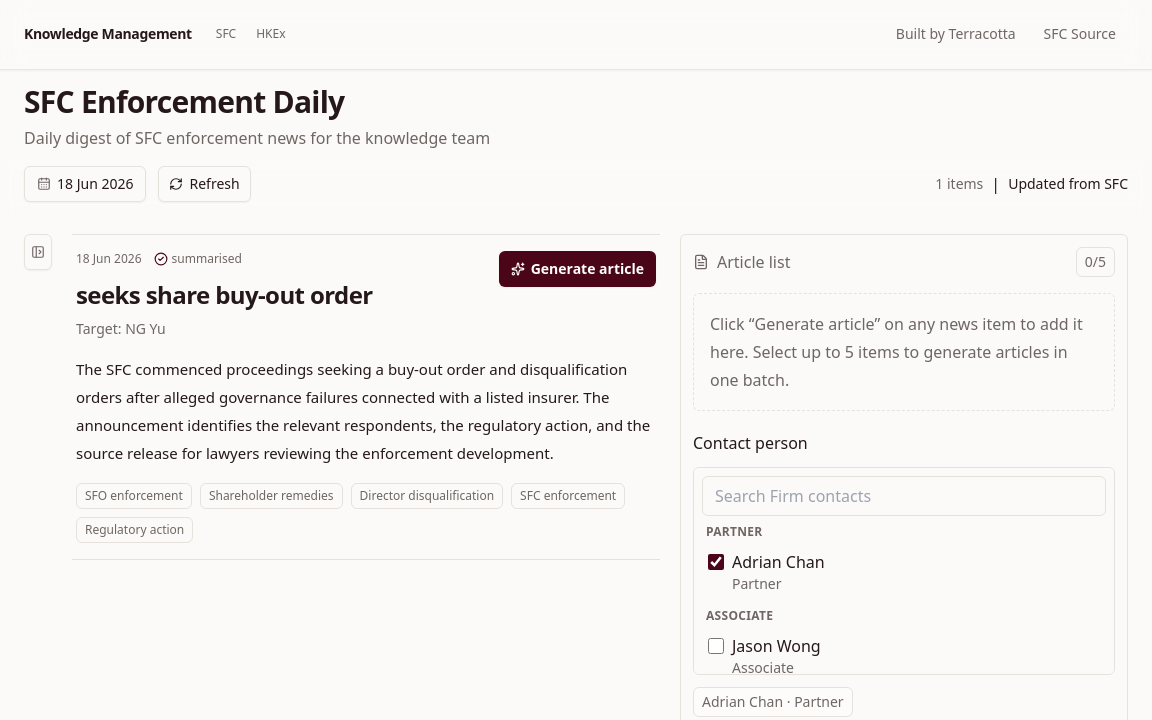
Test: AlertsWorkspace › renders the digest list and generator controls
Check: the heading "SFC Enforcement Daily" is shown, box [24, 81, 344, 122]
Check: the text "seeks share buy-out order" is shown, box [76, 279, 372, 311]
Click the button named "Show news navigation" at (38,252), box [24, 234, 52, 270]
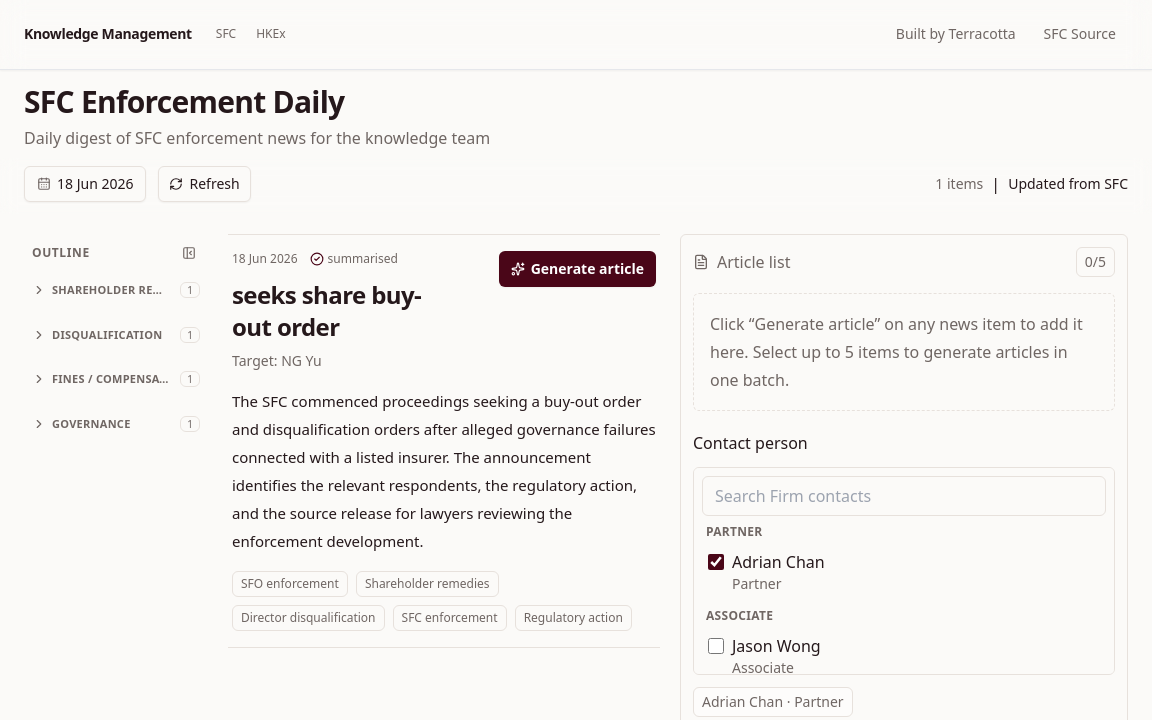
Click the button "Shareholder Remedies 1" at (116,290), box [24, 276, 208, 304]
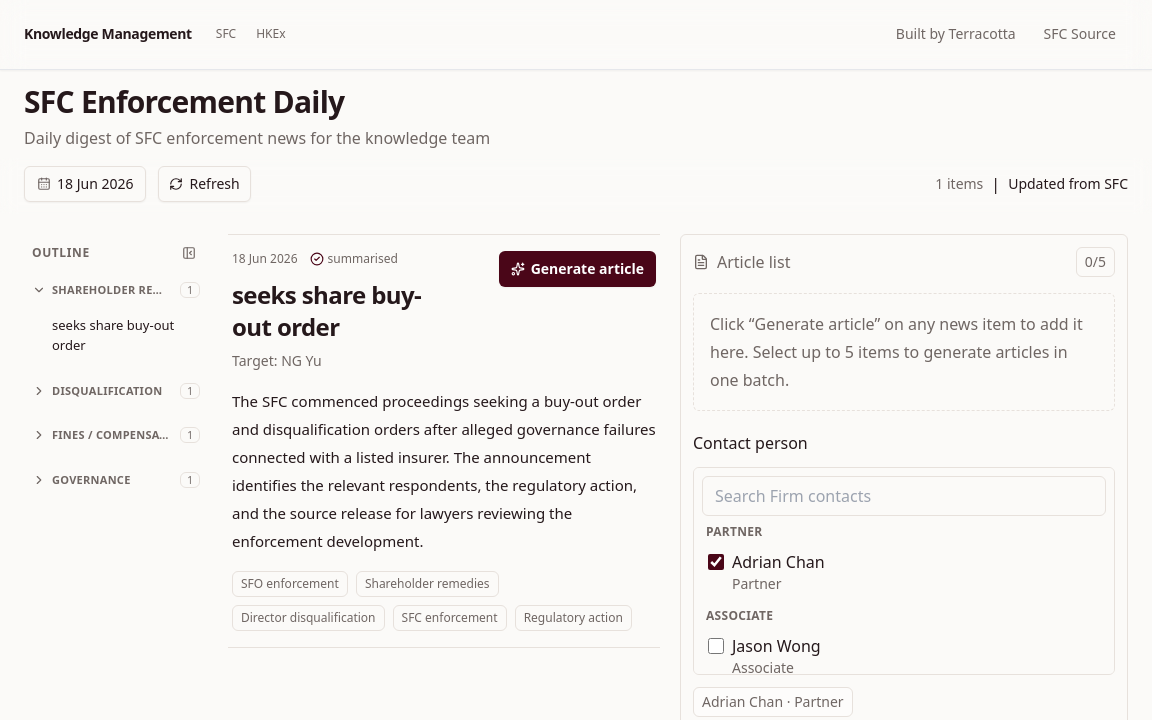
Check: the element named "Contact person" is shown, box [693, 467, 1115, 675]
Check: the link to "#news-26PR90" reads "seeks share buy-out order", box [52, 316, 174, 354]
Click the button "Generate article" at (577,269), box [499, 251, 656, 287]
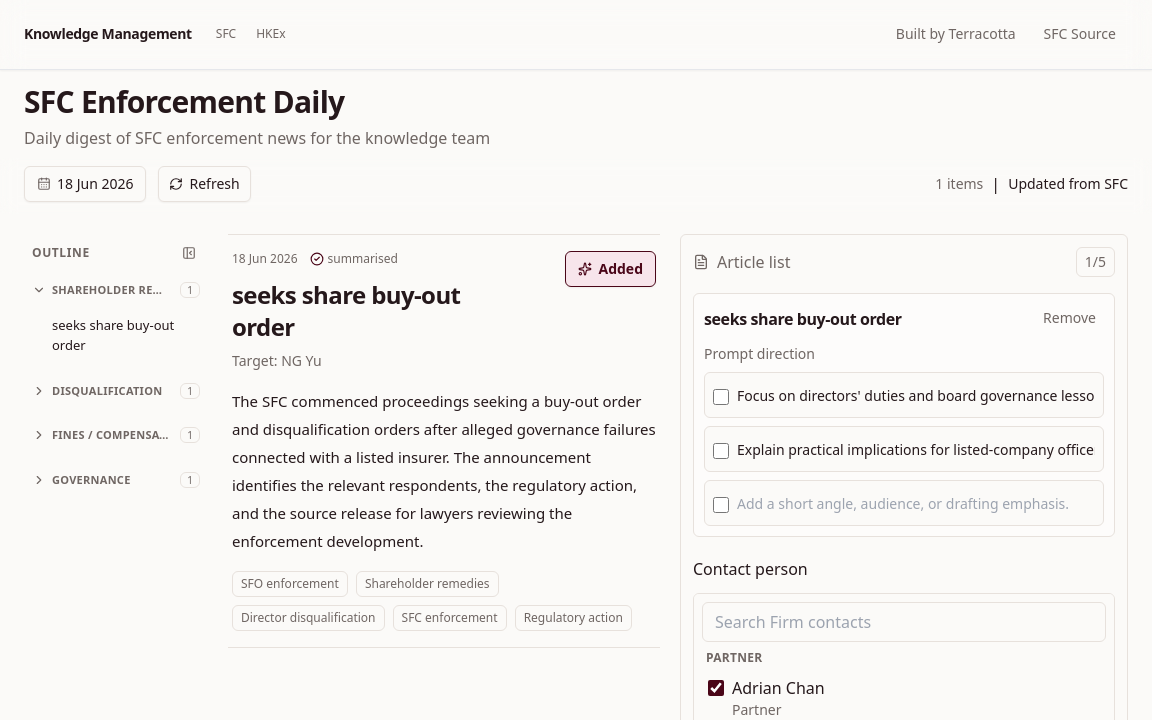
Check: the button "Added" is shown, box [566, 251, 656, 287]
Check: the text "1/5" is shown, box [1076, 247, 1115, 277]
Check: the field named "Prompt direction 1" is shown, box [737, 381, 1095, 409]
Type "Explain implications for licensed intermediaries." into the field named "Custom prompt direction" at (916,503), box [737, 489, 1095, 517]
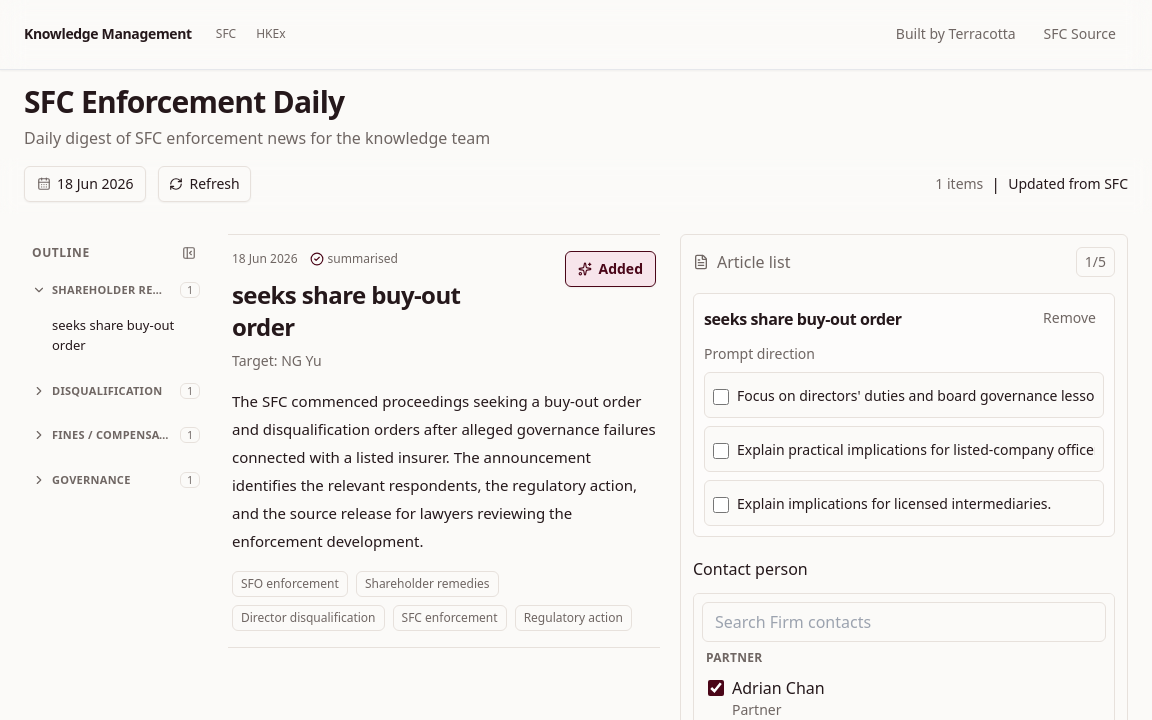
Click the button named "Collapse news navigation" at (189,253), box [178, 242, 200, 264]
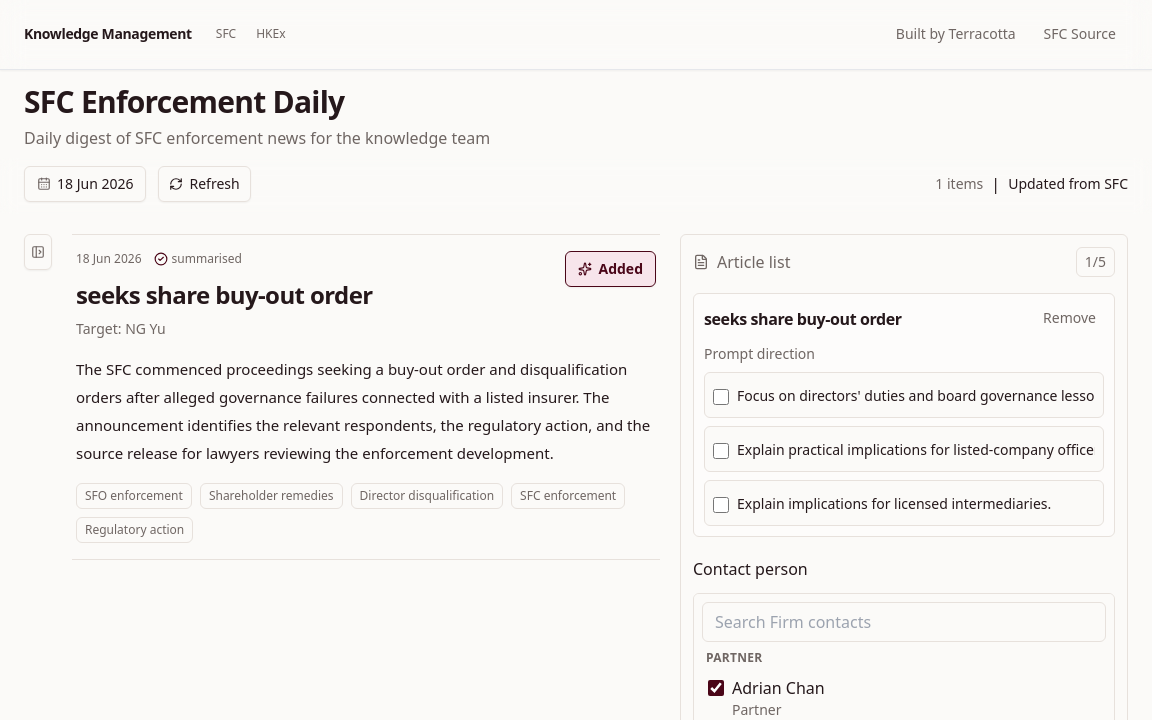
Check: the button named "Show news navigation" is shown
Check: the link to "#news-26PR90" is gone
Click the button named "Show news navigation" at (38,252), box [24, 234, 52, 270]
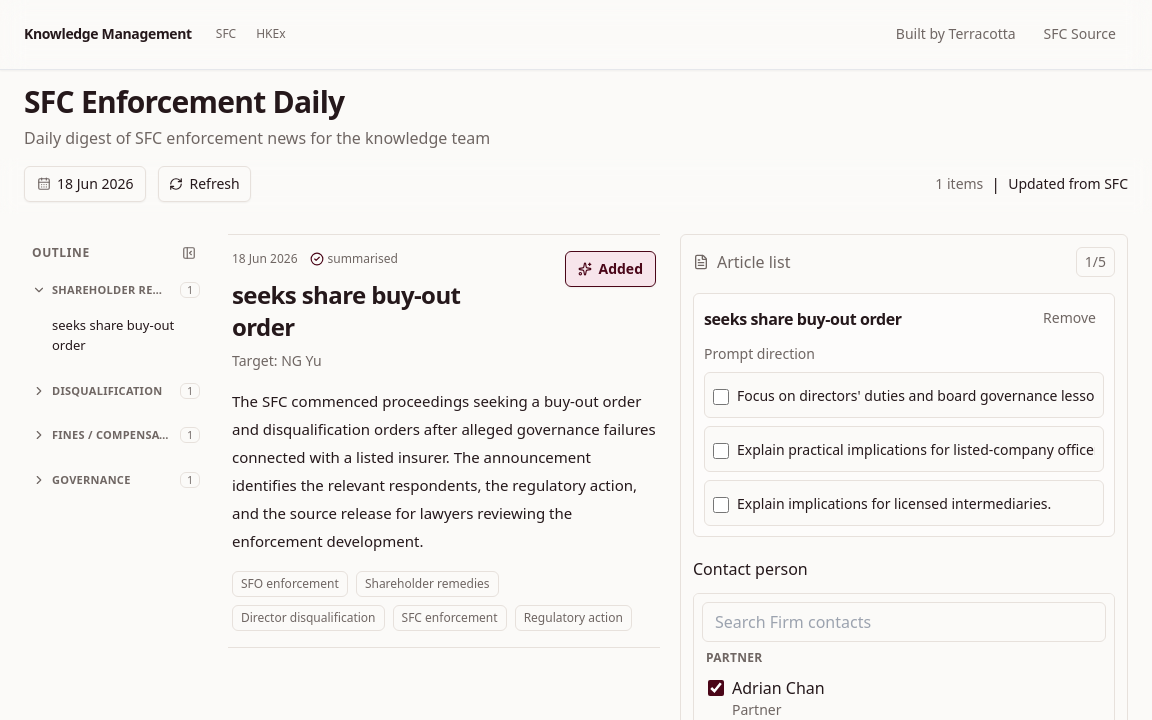
Check: the link to "#news-26PR90" reads "seeks share buy-out order", box [52, 316, 174, 354]
